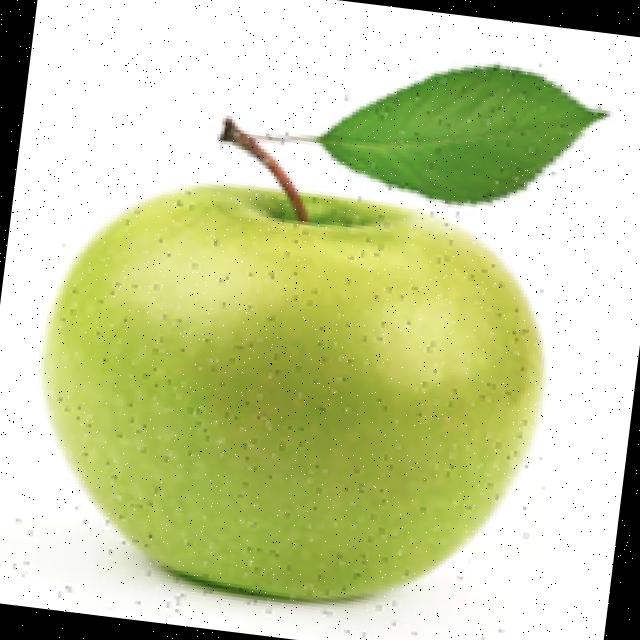apple: (35, 57, 614, 638)
